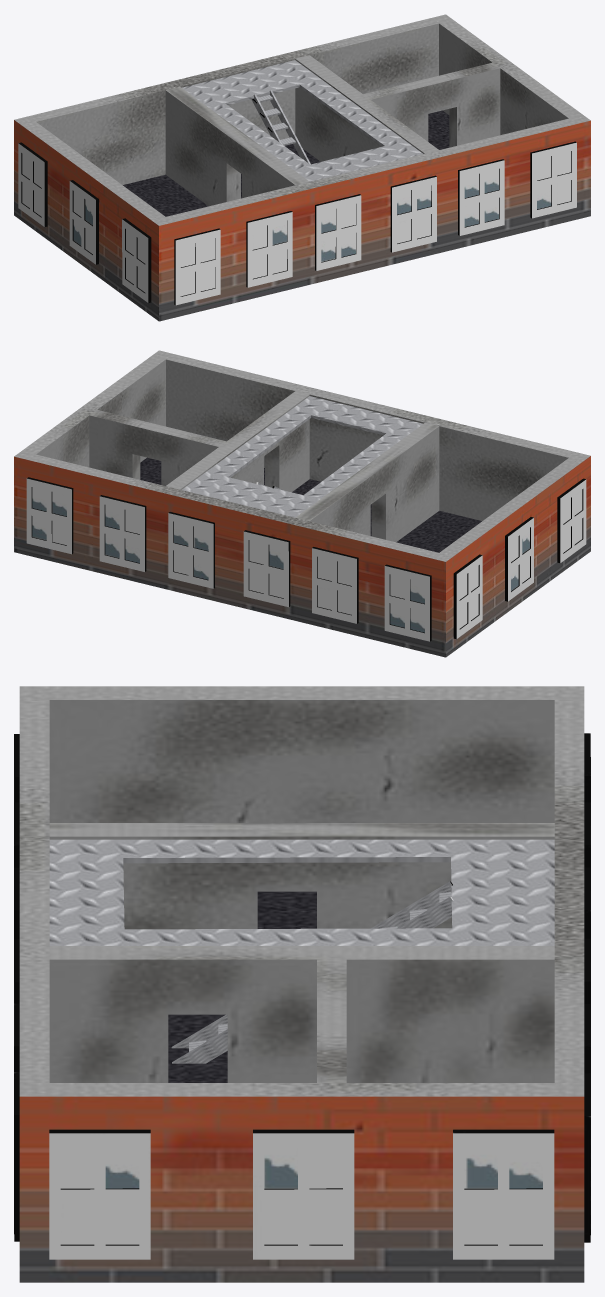
The model's file is 1st Floor to Warehouse.FBX.
3 renders of one model, top to bottom at view 1: azimuth 30°, elevation 25°; view 2: azimuth 150°, elevation 25°; view 3: azimuth 270°, elevation 25°, orthographic. The views are drawn at different scales.
Visible parts, largest first — view 1: Window, Box012, Box004, Box005, Box006, Box007, Box008, Box009, Box026, Box027, Box028, Box011; view 2: Window, Box012, Box021, Box023, Box024, Box020, Box022, Box025, Box026, Box027, Box028; view 3: Window, Box012, Box017, Box018, Box019, Box011, Box010, Box020, Box005.
Part boxes in pixels (x1,y1,x2,y2): Window: (14, 14, 590, 321); Box012: (182, 60, 422, 181); Box004: (174, 228, 220, 305); Box005: (530, 141, 576, 218); Box006: (246, 211, 292, 287); Box007: (458, 159, 504, 235); Box008: (315, 194, 361, 270); Box009: (390, 175, 436, 252); Box026: (18, 142, 47, 226); Box027: (122, 218, 151, 302); Box028: (69, 180, 98, 264); Box011: (252, 90, 310, 164); Window: (14, 350, 590, 657); Box012: (182, 396, 422, 517); Box021: (384, 564, 431, 641); Box023: (99, 495, 146, 571); Box024: (243, 530, 290, 607); Box020: (26, 477, 73, 554); Box022: (168, 512, 214, 588); Box025: (312, 547, 358, 623); Box026: (453, 554, 482, 639); Box027: (557, 478, 586, 563); Box028: (505, 517, 533, 601); Window: (19, 686, 584, 1282); Box012: (49, 839, 554, 945); Box017: (49, 1129, 150, 1259); Box018: (453, 1129, 554, 1259); Box019: (253, 1129, 354, 1259); Box011: (172, 892, 453, 1063); Box010: (171, 881, 452, 1048); Box020: (584, 1073, 590, 1242); Box005: (14, 1072, 19, 1241).
Bounding box in the file's own units: 304 × 64.16 × 178.
Materials: 1 (1 with a texture image).
